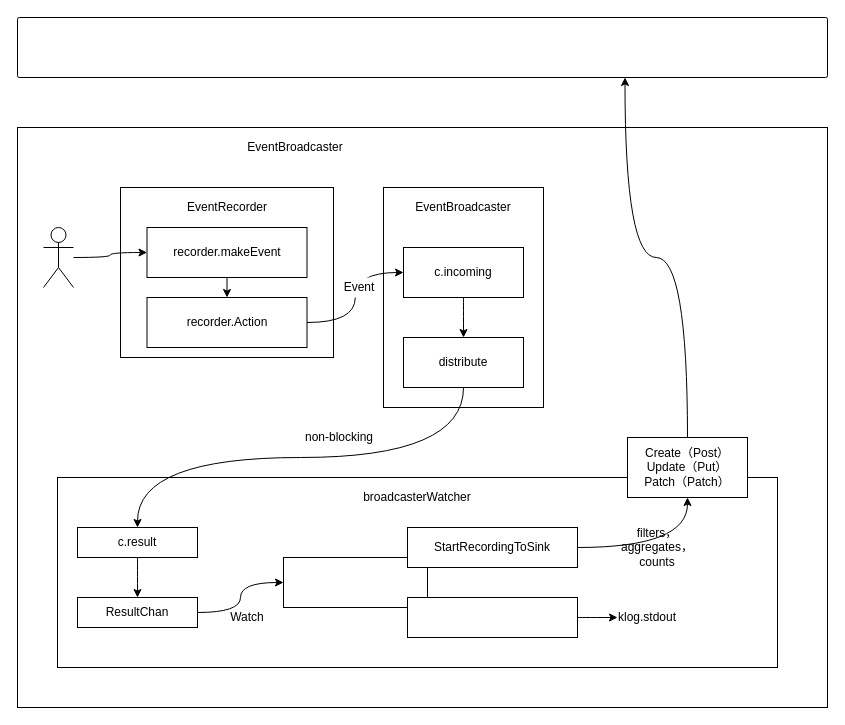
This 845x725 diagram has some shape labels left out. Each missing label, with the box of its shape:
Actor: (42, 226, 74, 288)
api-server: (16, 16, 828, 78)
StartEventWatcher: (282, 556, 428, 608)
StartLogging: (406, 596, 578, 638)
